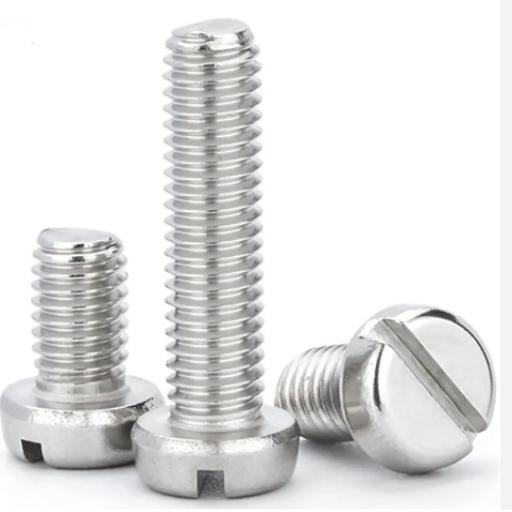Slotted: (339, 300, 494, 477)
